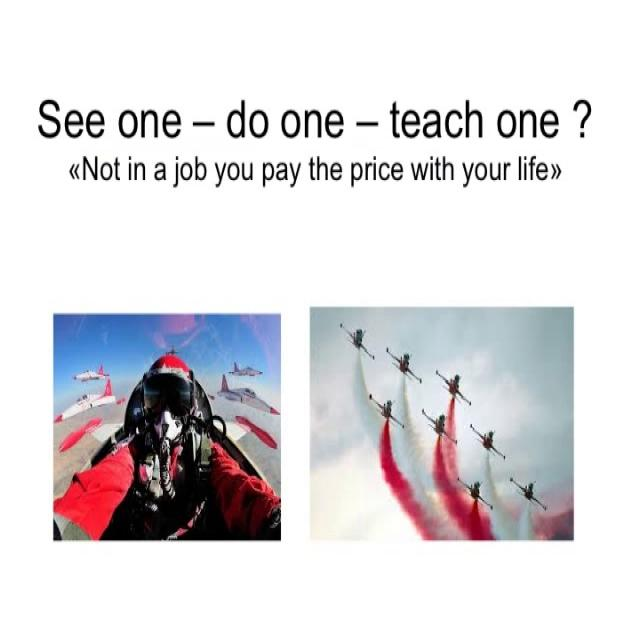image: (310, 307, 573, 539), (53, 313, 281, 540)
